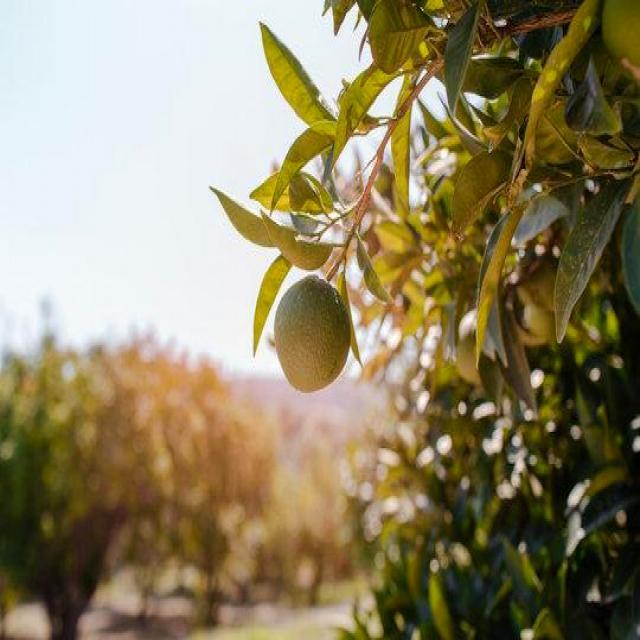Jeruk Belum Matang: (272, 275, 350, 393), (506, 254, 556, 347), (453, 310, 493, 382)
